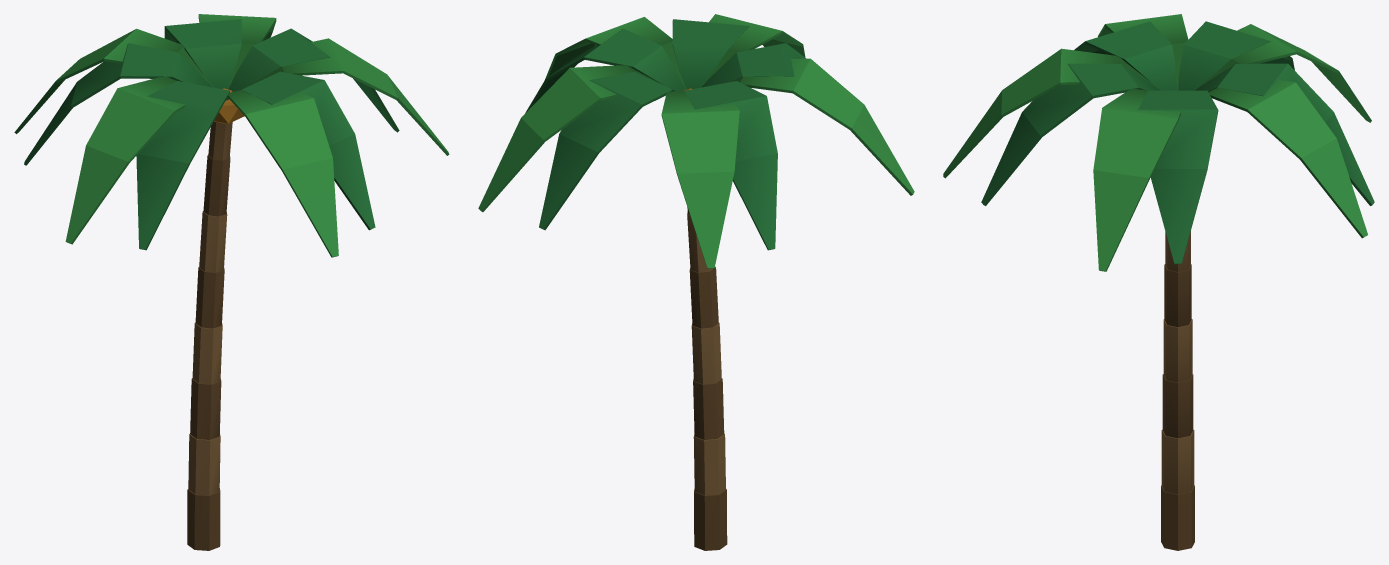
The model's file is du_palm-CJiDLbLQ.glb.
3 renders of one model, left to right at view 1: azimuth 30°, elevation 25°; view 2: azimuth 150°, elevation 25°; view 3: azimuth 270°, elevation 25°, orthographic. The views are drawn at different scales.
Bounding box in the file's own units: 6.15 × 7.36 × 5.91.
